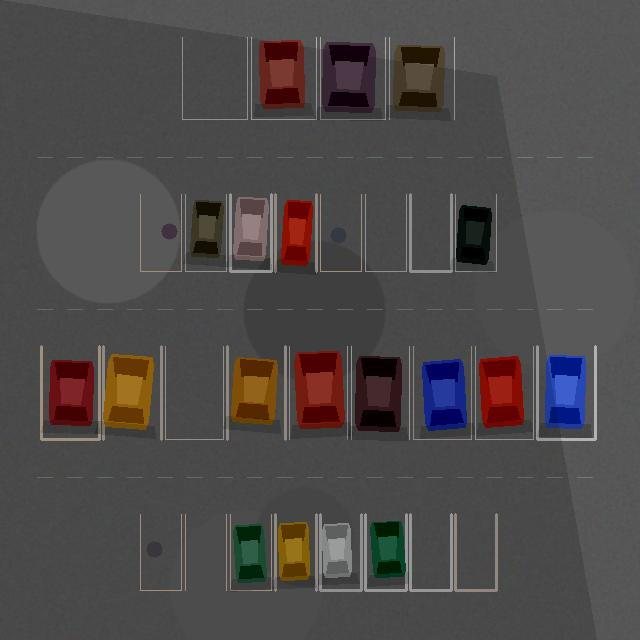space-empty: (165, 346, 223, 439), (182, 37, 247, 119), (140, 194, 181, 271), (320, 194, 361, 271), (365, 194, 406, 271), (410, 194, 451, 271), (140, 514, 181, 590), (185, 514, 226, 590), (410, 514, 451, 590), (455, 514, 496, 590)
space-occupied: (41, 346, 99, 439), (103, 346, 161, 439), (227, 346, 285, 439), (289, 346, 347, 439), (351, 346, 409, 439), (413, 346, 471, 439), (475, 346, 533, 439), (537, 346, 595, 439), (251, 37, 316, 119), (320, 37, 385, 119), (389, 37, 454, 119), (185, 194, 226, 271), (230, 194, 271, 271), (275, 194, 316, 271), (455, 194, 496, 271), (230, 514, 271, 590), (275, 514, 316, 590), (320, 514, 361, 590), (365, 514, 406, 590)
